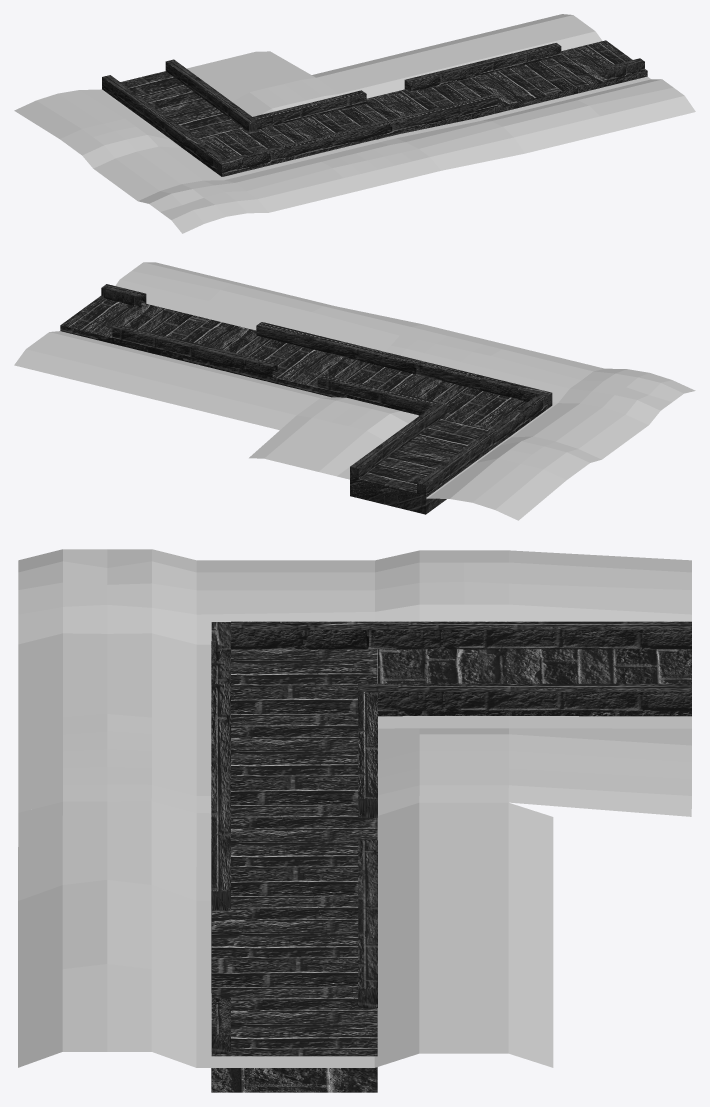
File: RIGHT.fbx
The picture shows the model from 3 angles, top to bottom: view 1: azimuth 30°, elevation 25°; view 2: azimuth 150°, elevation 25°; view 3: azimuth 270°, elevation 25°; orthographic projection. The views are drawn at different scales.
Visible parts, largest first — view 1: Plane.011, Plane.010, Cube.036, Cube.040, Cube.037, Cube.068, Cube.041, Cube.065, Cube.039, Cube.034, Cube.061; view 2: Plane.011, Plane.010, Cube.036, Cube.040, Cube.037, Cube.068, Cube.041, Cube.039, Cube.065, Cube.034, Cube.061; view 3: Plane.011, Plane.010, Cube.036, Cube.041, Cube.040, Cube.039, Cube.037, Cube.068, Cube.065, Cube.034, Cube.061.
Part boxes in pixels (left/top/right/bottom): Plane.011: left=14, top=51, right=440, bottom=233; Plane.010: left=312, top=14, right=695, bottom=170; Cube.036: left=180, top=40, right=647, bottom=176; Cube.040: left=102, top=71, right=243, bottom=145; Cube.037: left=281, top=94, right=497, bottom=158; Cube.068: left=404, top=43, right=561, bottom=92; Cube.041: left=102, top=75, right=224, bottom=170; Cube.065: left=253, top=90, right=366, bottom=129; Cube.039: left=165, top=59, right=257, bottom=131; Cube.034: left=217, top=146, right=285, bottom=174; Cube.061: left=602, top=58, right=644, bottom=80; Plane.011: left=249, top=324, right=695, bottom=520; Plane.010: left=14, top=262, right=422, bottom=430; Cube.036: left=60, top=296, right=552, bottom=436; Cube.040: left=350, top=418, right=508, bottom=514; Cube.037: left=256, top=322, right=484, bottom=389; Cube.068: left=112, top=324, right=277, bottom=377; Cube.041: left=417, top=394, right=547, bottom=495; Cube.039: left=350, top=402, right=446, bottom=478; Cube.065: left=317, top=374, right=437, bottom=413; Cube.034: left=480, top=376, right=552, bottom=406; Cube.061: left=101, top=284, right=146, bottom=307; Plane.011: left=18, top=549, right=691, bottom=816; Plane.010: left=18, top=801, right=553, bottom=1067; Cube.036: left=211, top=641, right=377, bottom=1092; Cube.041: left=231, top=621, right=691, bottom=649; Cube.040: left=378, top=649, right=691, bottom=716; Cube.039: left=358, top=683, right=691, bottom=711; Cube.037: left=211, top=684, right=230, bottom=910; Cube.068: left=358, top=840, right=377, bottom=1007; Cube.065: left=358, top=692, right=377, bottom=817; Cube.034: left=211, top=622, right=230, bottom=683; Cube.061: left=211, top=998, right=230, bottom=1053.
Bounding box in the file's own units: 6467 × 335 × 3676.
